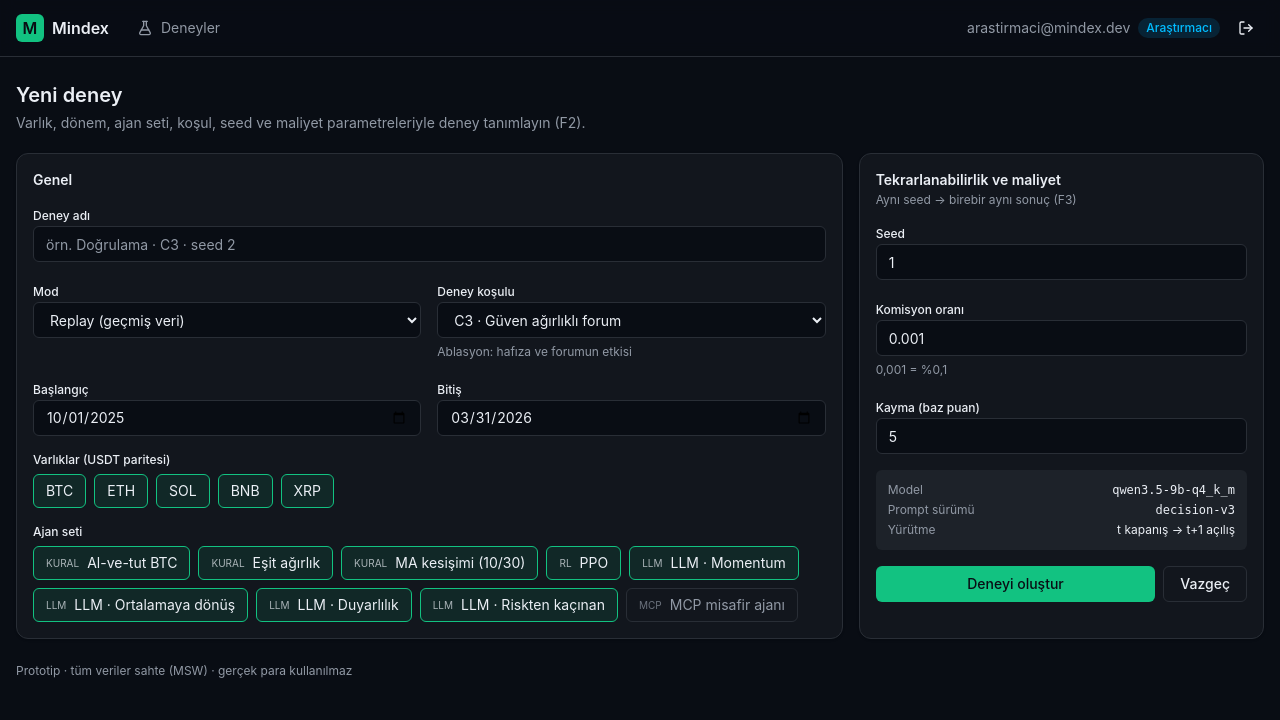
experiment setup (F2) › validates and creates a draft experiment
Click the button "Deneyi oluştur" at (1016, 584), box [876, 566, 1155, 602]
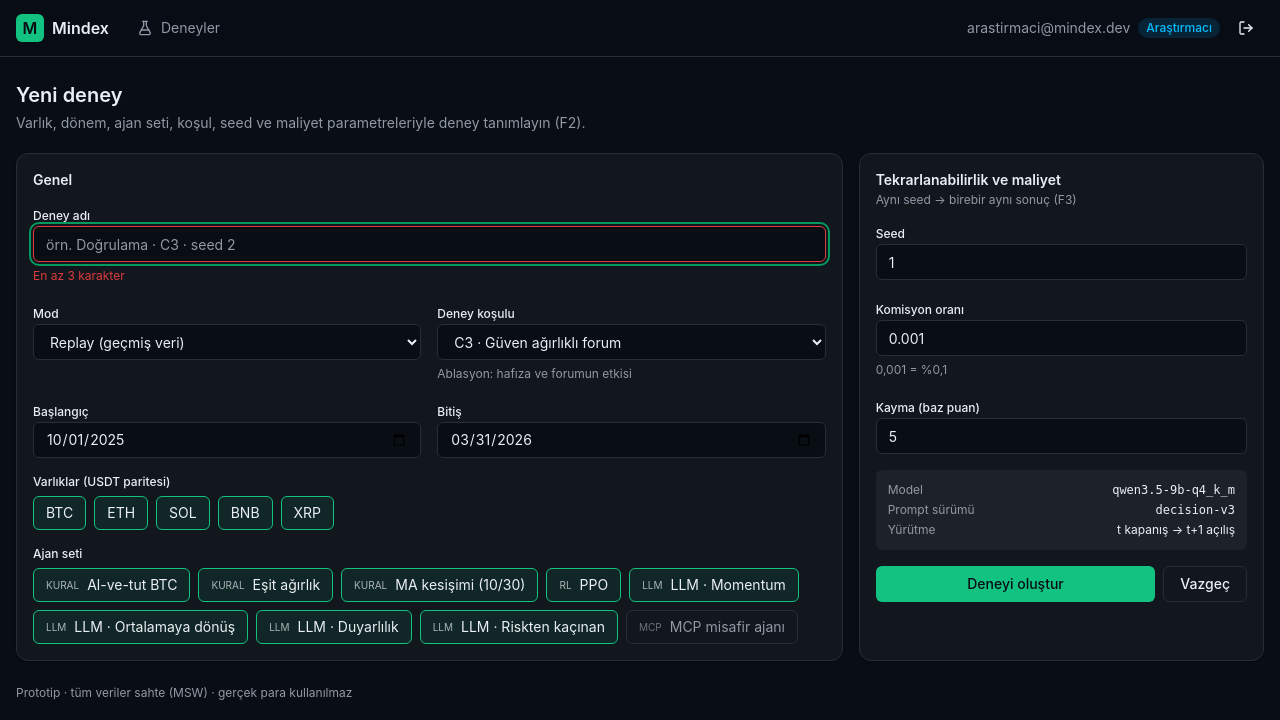
Result: the text "En az 3 karakter" is shown at [33, 268, 125, 283]
Type "Yeni doğrulama deneyi" into the field labelled "Deney adı" at (429, 244), box [33, 226, 826, 262]
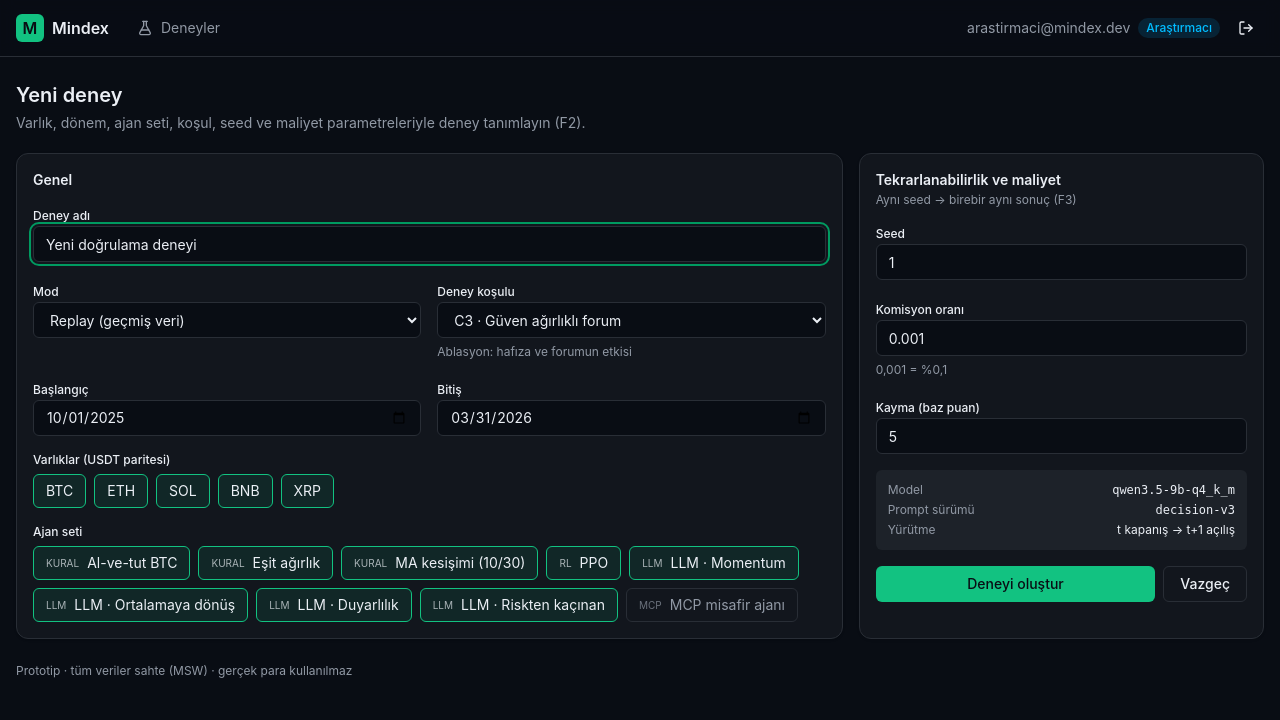
Click the button "Deneyi oluştur" at (1016, 584), box [876, 566, 1155, 602]
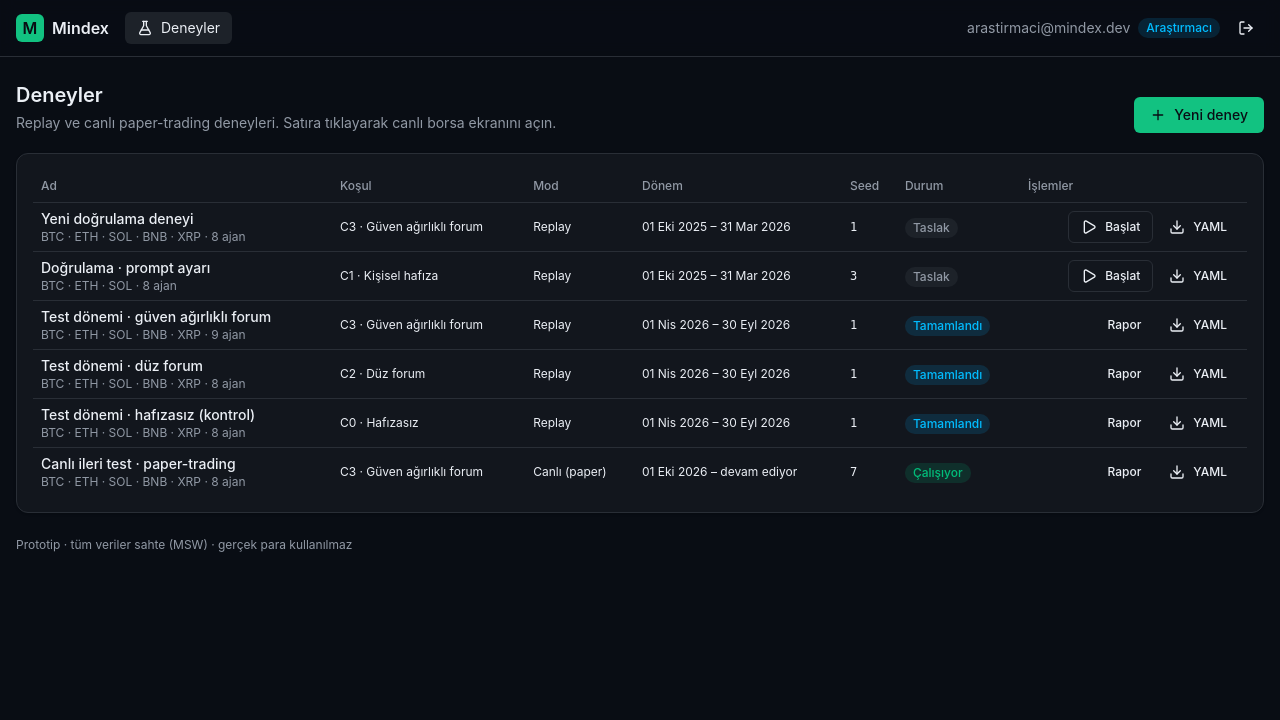
Result: the text "Taslak" in the row of "Yeni doğrulama deneyi" is shown at [913, 220, 950, 234]
